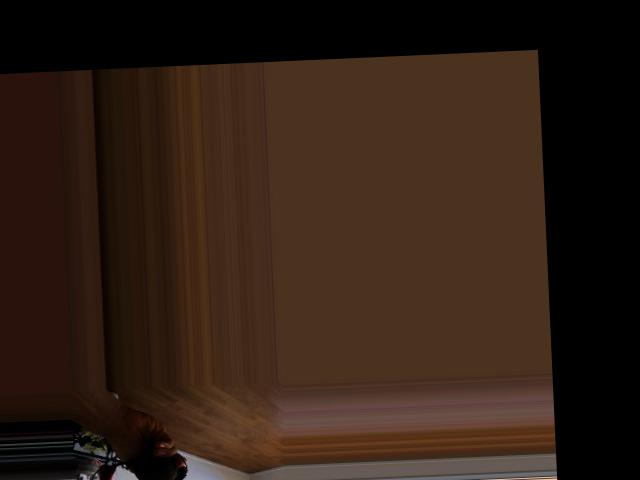beet: (91, 451, 188, 480)
